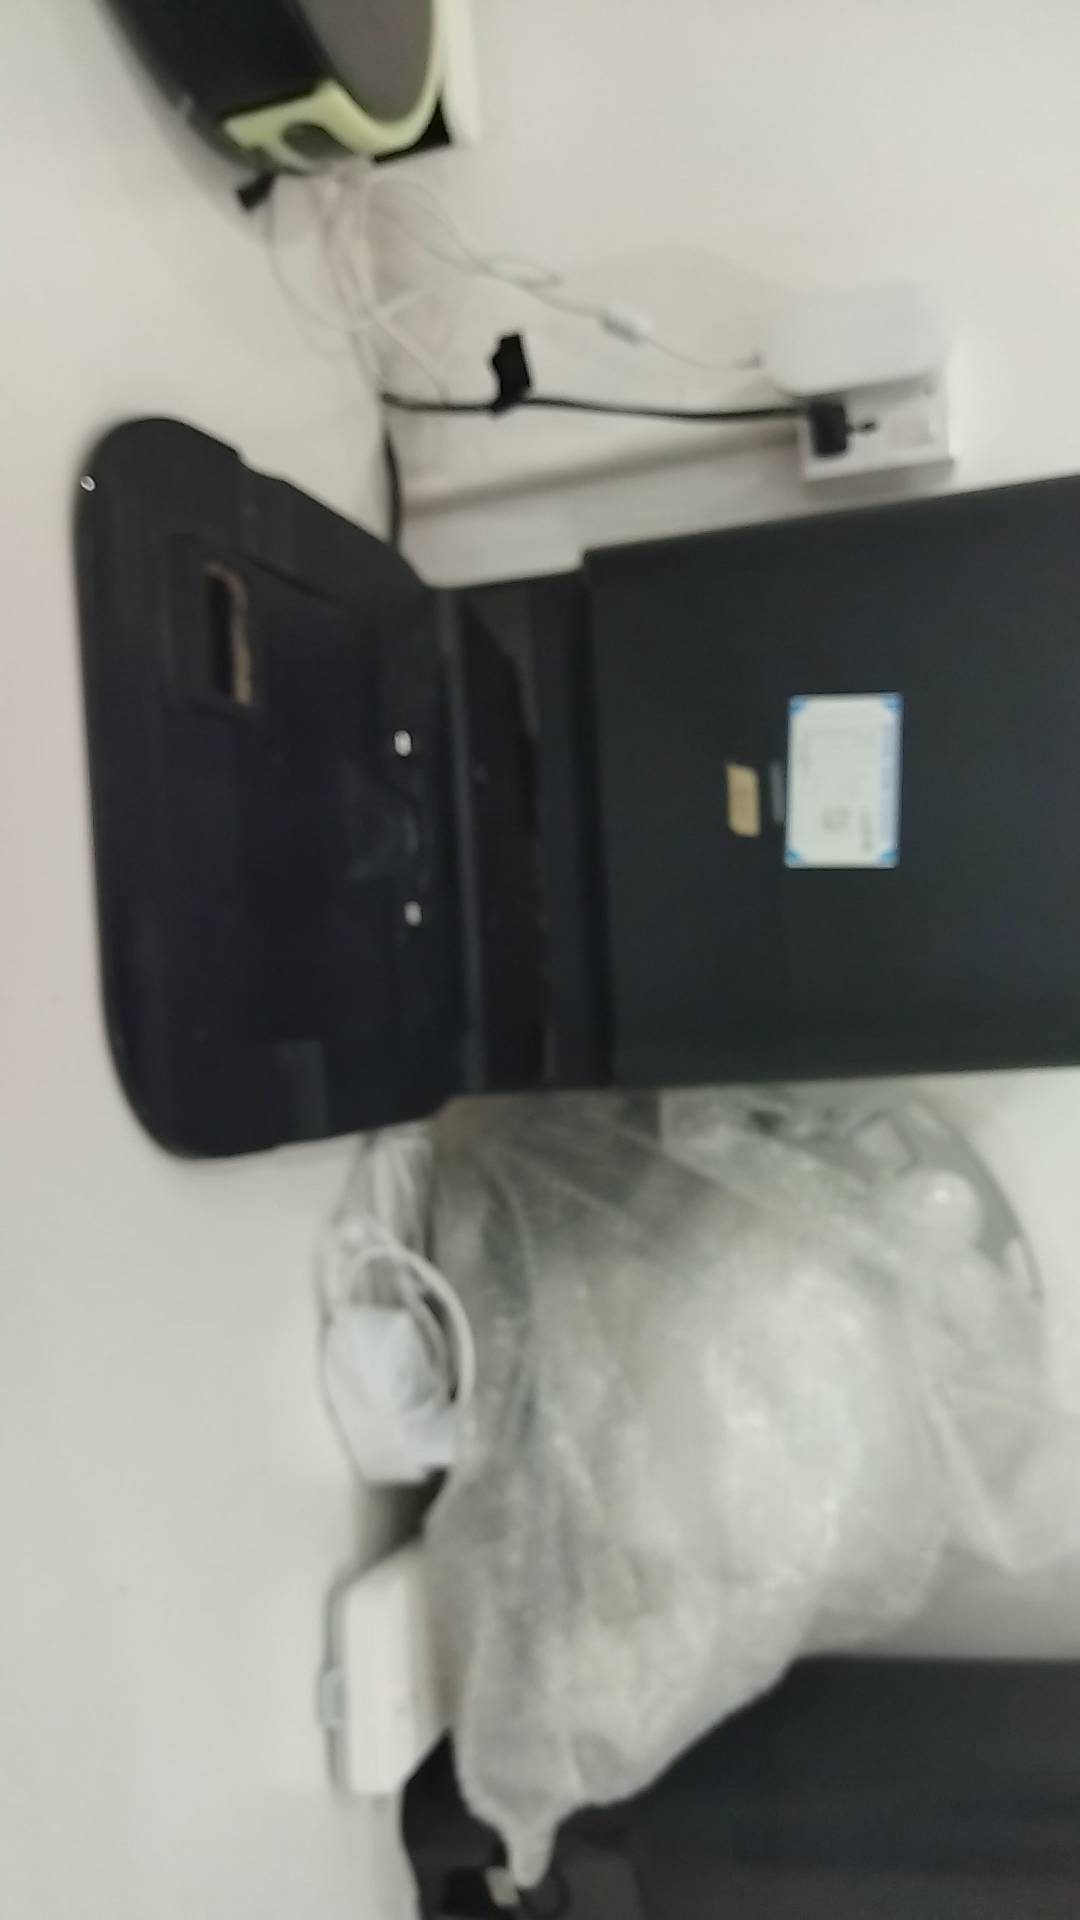dust collecting barrel: (69, 415, 1077, 1159)
